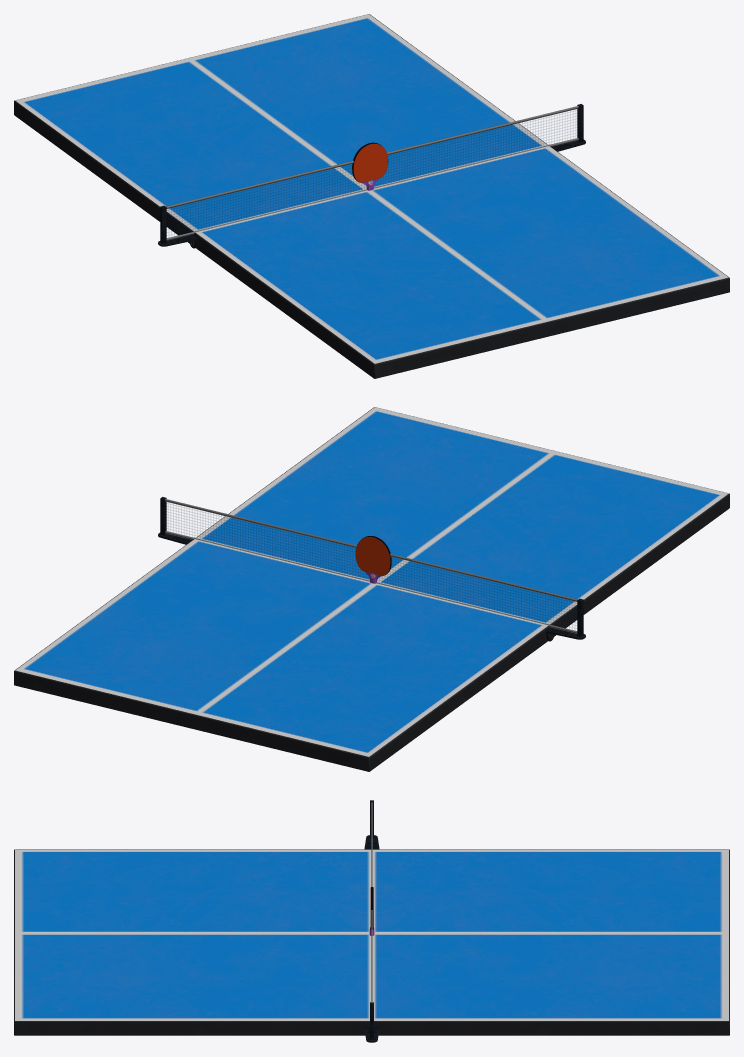
Rendered from table.glb.
3 views of the same model, one above another, from view 1: azimuth 30°, elevation 25°; view 2: azimuth 150°, elevation 25°; view 3: azimuth 270°, elevation 25° (orthographic).
Parts seen in each view (by area): view 1: table, net, paddle; view 2: table, net, paddle; view 3: table, net.
Boxes of the visible parts, x1,y1,x2,y2 form: table: (14,14,729,378); net: (158,104,585,248); paddle: (352,142,388,190); table: (14,407,729,771); net: (158,497,585,641); paddle: (355,536,391,583); table: (14,849,729,1035); net: (364,800,379,1042).
Size of the model in its own units: 1.85 by 0.2537 by 2.72.
Materials: 3 (3 with a texture image).
